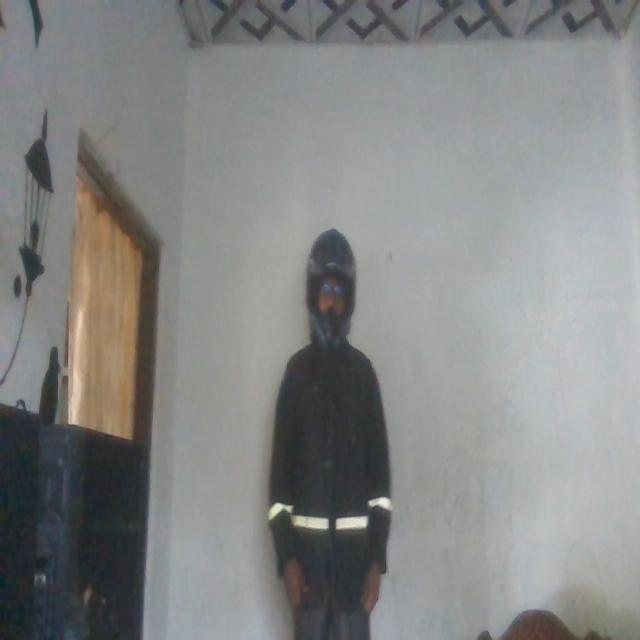Helmet_Wearer: (297, 225, 359, 359)
Jacket_Wearer: (267, 334, 389, 614)
Person: (263, 223, 392, 640)
